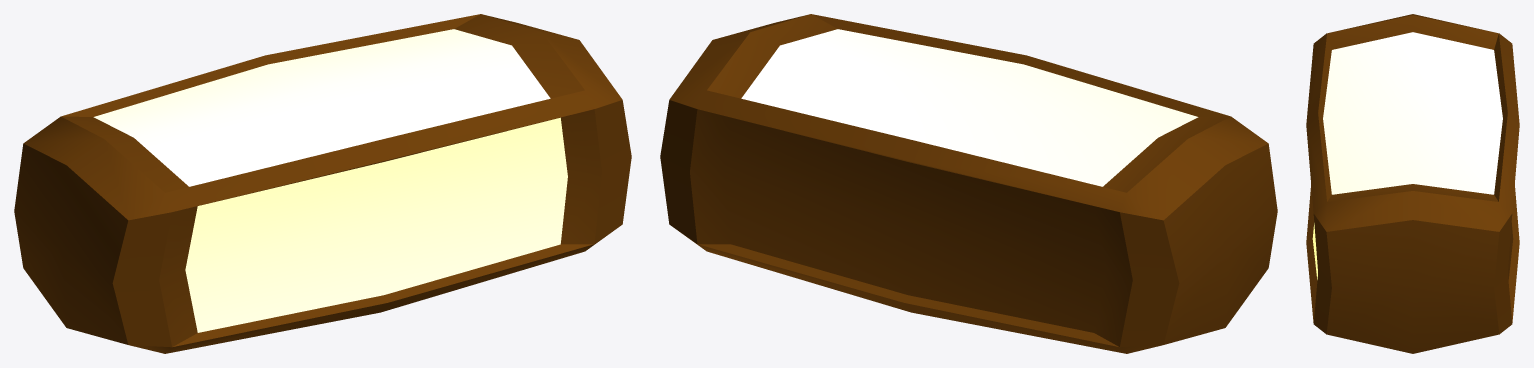
The model's file is 15.-LuzPared.fbx.
The picture shows the model from 3 angles, left to right: view 1: azimuth 30°, elevation 25°; view 2: azimuth 150°, elevation 25°; view 3: azimuth 270°, elevation 25°; orthographic projection. The views are drawn at different scales.
Parts seen in each view (by area): view 1: 03.-LuzPared; view 2: 03.-LuzPared; view 3: 03.-LuzPared.
Part boxes in pixels (left/top/right/bottom): 03.-LuzPared: left=14, top=14, right=631, bottom=353; 03.-LuzPared: left=660, top=14, right=1277, bottom=353; 03.-LuzPared: left=1306, top=14, right=1519, bottom=353.
Bounding box in the file's own units: 334 × 121 × 144.
